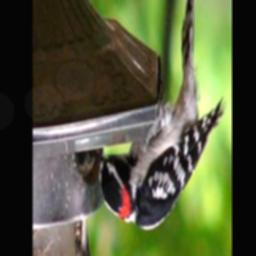Woodpecker: (92, 0, 227, 234)
